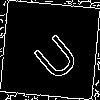U: (25, 25, 83, 84)
